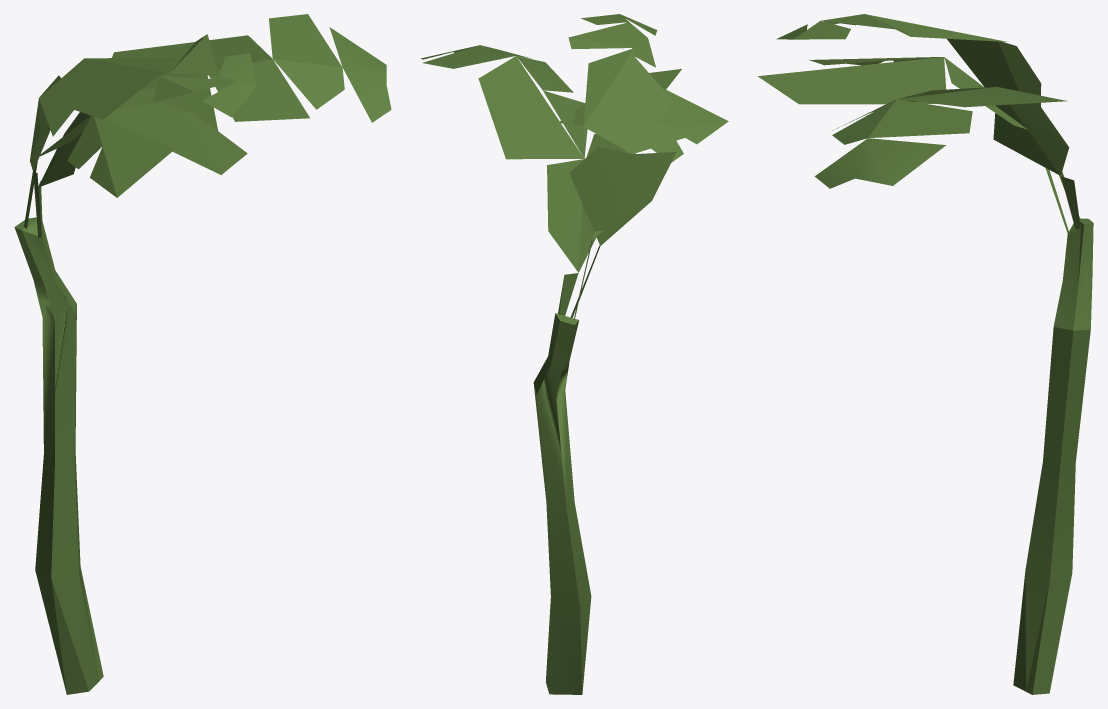
The model's file is Vegetation_Tree_Bamboo_08.fbx.
The picture shows the model from 3 angles, left to right: view 1: azimuth 30°, elevation 25°; view 2: azimuth 150°, elevation 25°; view 3: azimuth 270°, elevation 25°; orthographic projection. The views are drawn at different scales.
Parts seen in each view (by area): view 1: Vegetation_Tree_Bamboo_08; view 2: Vegetation_Tree_Bamboo_08; view 3: Vegetation_Tree_Bamboo_08.
Part boxes in pixels (x1=…): Vegetation_Tree_Bamboo_08: x1=14, y1=14, x2=391, y2=694; Vegetation_Tree_Bamboo_08: x1=420, y1=14, x2=728, y2=694; Vegetation_Tree_Bamboo_08: x1=758, y1=14, x2=1093, y2=694.
Size of the model in its own units: 77.81 by 158 by 69.86.
